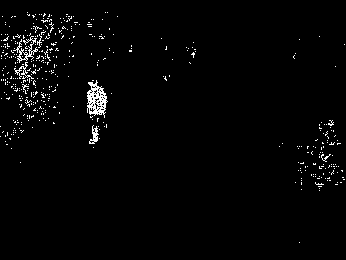person: (85, 78, 107, 145)
